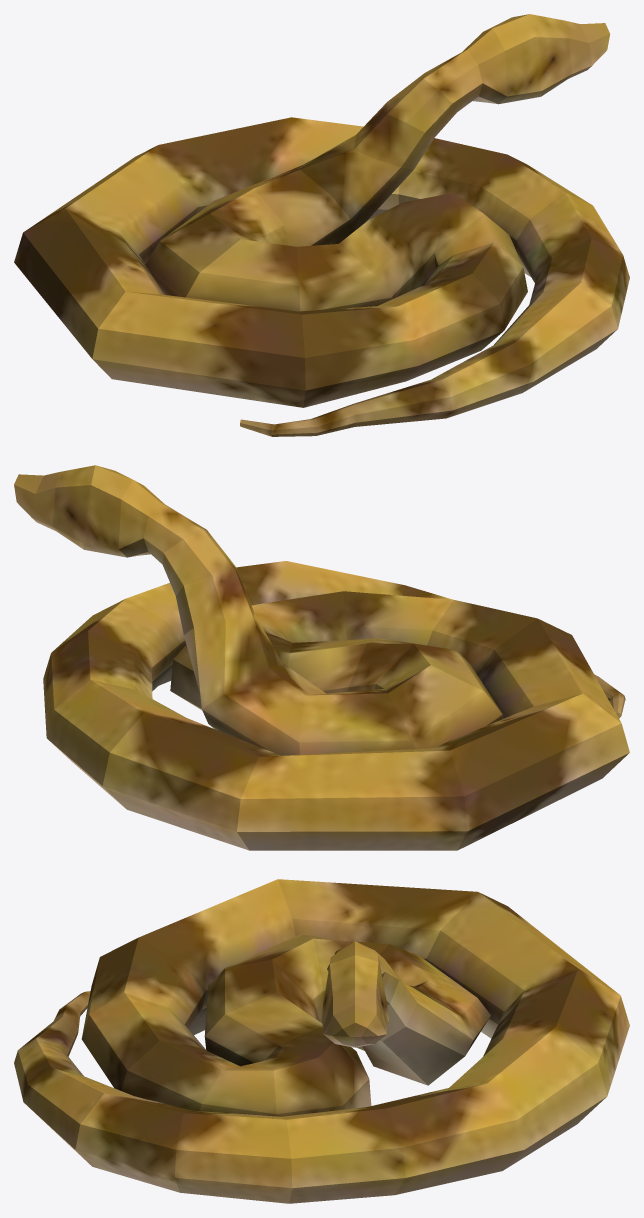
Rendered from other-bushmaster-snake-274.glb.
The picture shows the model from 3 angles, top to bottom: view 1: azimuth 30°, elevation 25°; view 2: azimuth 150°, elevation 25°; view 3: azimuth 270°, elevation 25°; orthographic projection. The views are drawn at different scales.
Visible parts, largest first — view 1: BushmasterSnake_mesh; view 2: BushmasterSnake_mesh; view 3: BushmasterSnake_mesh.
Part boxes in pixels (x1,y1,x2,y2): BushmasterSnake_mesh: (14, 14, 629, 436); BushmasterSnake_mesh: (14, 465, 629, 850); BushmasterSnake_mesh: (14, 879, 629, 1203).
Bounding box in the file's own units: 12.9 × 5.27 × 11.75.
Materials: 1 (1 with a texture image).
